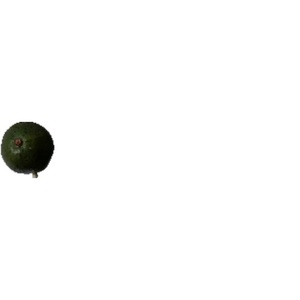abacate: (1, 121, 56, 175)
